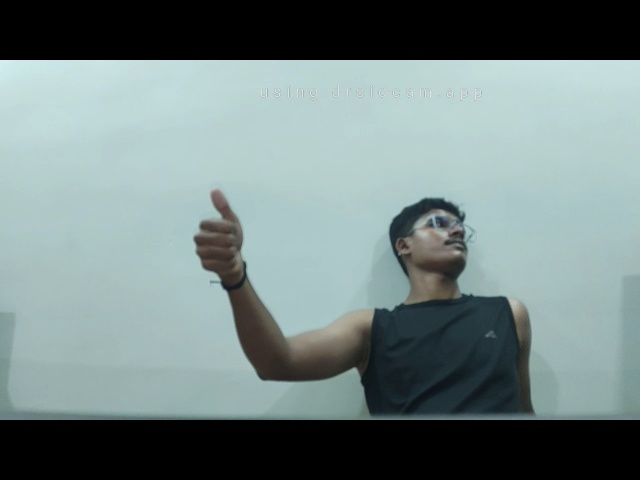thanks: (173, 176, 260, 294)
